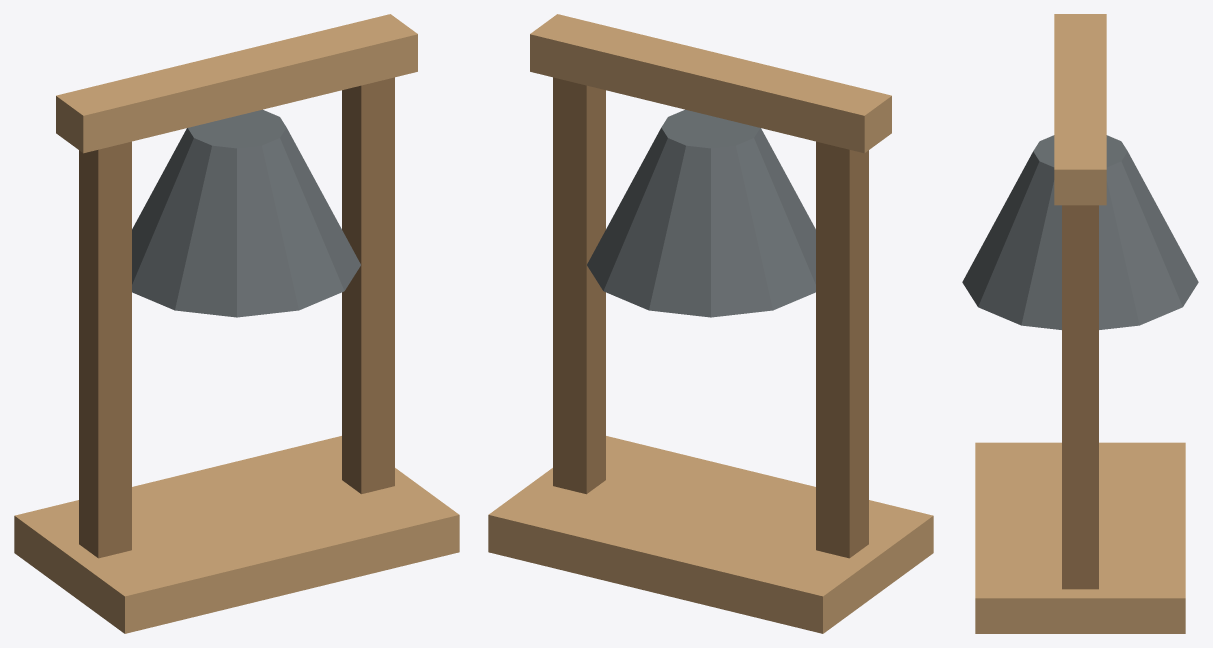
File: alarm-bell.glb
3 views of the same model, side by side, from view 1: azimuth 30°, elevation 25°; view 2: azimuth 150°, elevation 25°; view 3: azimuth 270°, elevation 25° (orthographic). The views are drawn at different scales.
Visible parts, largest first — view 1: alarm-bell; view 2: alarm-bell; view 3: alarm-bell.
Boxes of the visible parts, bbox=[...] form: alarm-bell: bbox=[14, 14, 459, 633]; alarm-bell: bbox=[488, 14, 933, 633]; alarm-bell: bbox=[962, 14, 1198, 633].
Size of the model in its own units: 1.4 by 1.95 by 0.9.
